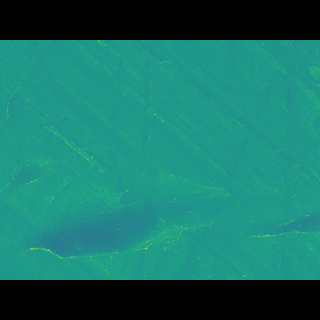Loch: (4, 159, 315, 240)
